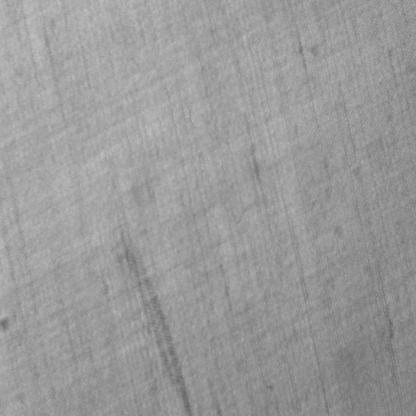oil spot: (121, 236, 194, 416)
